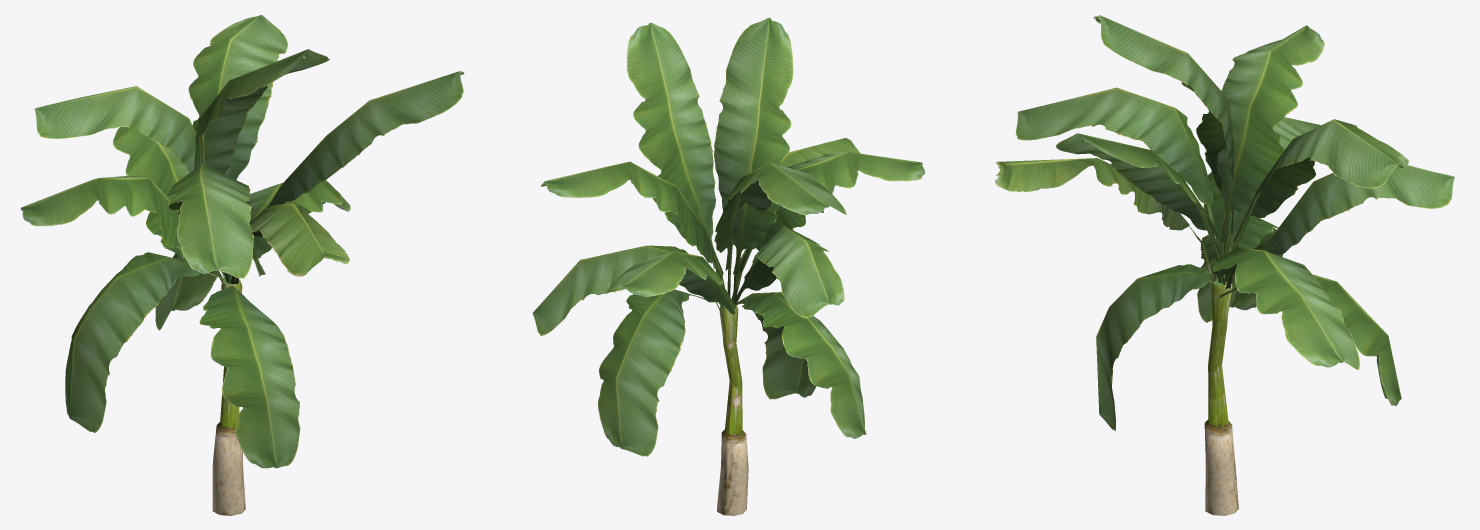
The model's file is bananatree version2 b.dae.
3 renders of one model, left to right at view 1: azimuth 30°, elevation 25°; view 2: azimuth 150°, elevation 25°; view 3: azimuth 270°, elevation 25°, orthographic. The views are drawn at different scales.
Visible parts, largest first — view 1: bananatree_3_Group7_Form31, bananatree_3_Group60_Form38, bananatree_3_Group60_Form31, bananatree_3_Group60_Form34; view 2: bananatree_3_Group60_Form31, bananatree_3_Group7_Form31, bananatree_3_Group60_Form38, bananatree_3_Group60_Form34, bananatree_3_Group60_Group7_Shape0; view 3: bananatree_3_Group7_Form31, bananatree_3_Group60_Form31, bananatree_3_Group60_Form38, bananatree_3_Group60_Form34, bananatree_3_Group60_Group7_Shape0.
Part boxes in pixels (left/top/right/bottom): bananatree_3_Group7_Form31: left=34, top=15, right=329, bottom=278; bananatree_3_Group60_Form38: left=65, top=252, right=300, bottom=468; bananatree_3_Group60_Form31: left=20, top=71, right=463, bottom=283; bananatree_3_Group60_Form34: left=212, top=279, right=245, bottom=515; bananatree_3_Group60_Form31: left=532, top=22, right=860, bottom=335; bananatree_3_Group7_Form31: left=540, top=17, right=925, bottom=276; bananatree_3_Group60_Form38: left=598, top=289, right=866, bottom=456; bananatree_3_Group60_Form34: left=717, top=305, right=748, bottom=515; bananatree_3_Group60_Group7_Shape0: left=713, top=189, right=823, bottom=301; bananatree_3_Group7_Form31: left=1015, top=15, right=1409, bottom=243; bananatree_3_Group60_Form31: left=995, top=117, right=1455, bottom=370; bananatree_3_Group60_Form38: left=1096, top=215, right=1401, bottom=430; bananatree_3_Group60_Form34: left=1204, top=278, right=1238, bottom=515; bananatree_3_Group60_Group7_Shape0: left=1095, top=17, right=1403, bottom=282.
Bounding box in the file's own units: 134 × 161 × 142.
Materials: 2 (2 with a texture image).
